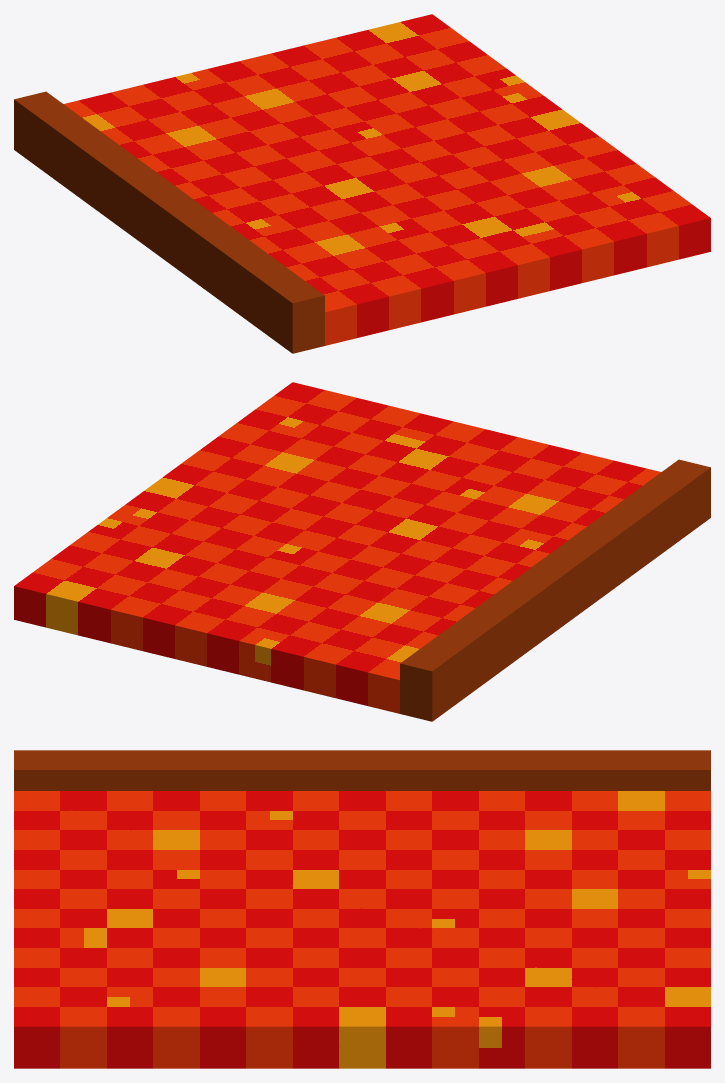
The model's file is Content.obj.
3 renders of one model, top to bottom at view 1: azimuth 30°, elevation 25°; view 2: azimuth 150°, elevation 25°; view 3: azimuth 270°, elevation 25°, orthographic. The views are drawn at different scales.
Visible parts, largest first — view 1: Model; view 2: Model; view 3: Model.
Boxes of the visible parts, box(x1,y1,x2,y2) form: Model: box(14, 14, 710, 353); Model: box(14, 382, 710, 721); Model: box(14, 750, 710, 1068).
Size of the model in its own units: 27.73 by 3.2 by 32.
1 material, 1 textured.
